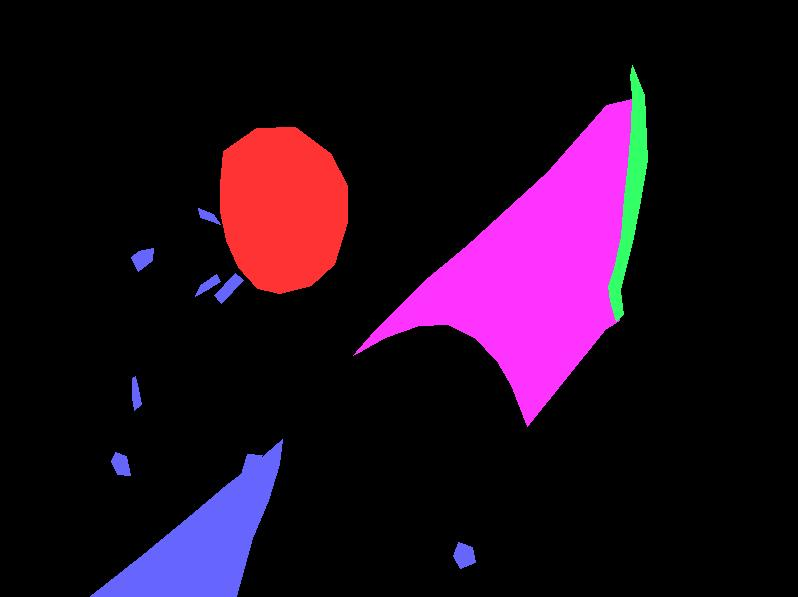Broken part: (608, 65, 647, 321)
Dent: (353, 98, 636, 426)
Missing part: (220, 127, 347, 293)
Scratch: (90, 439, 282, 596), (214, 273, 243, 303), (453, 542, 475, 568), (195, 274, 220, 296), (131, 248, 153, 271), (111, 452, 130, 475), (241, 454, 262, 474), (198, 208, 220, 224), (132, 376, 141, 410)
